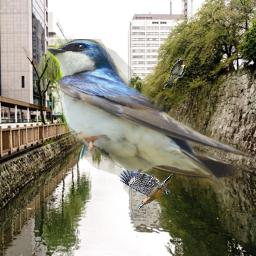Swallow: (46, 39, 256, 196), (164, 58, 186, 89)
Woodpecker: (118, 169, 173, 210)
